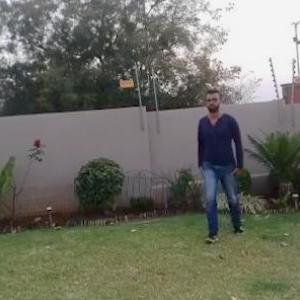follow: (195, 92, 241, 232)
